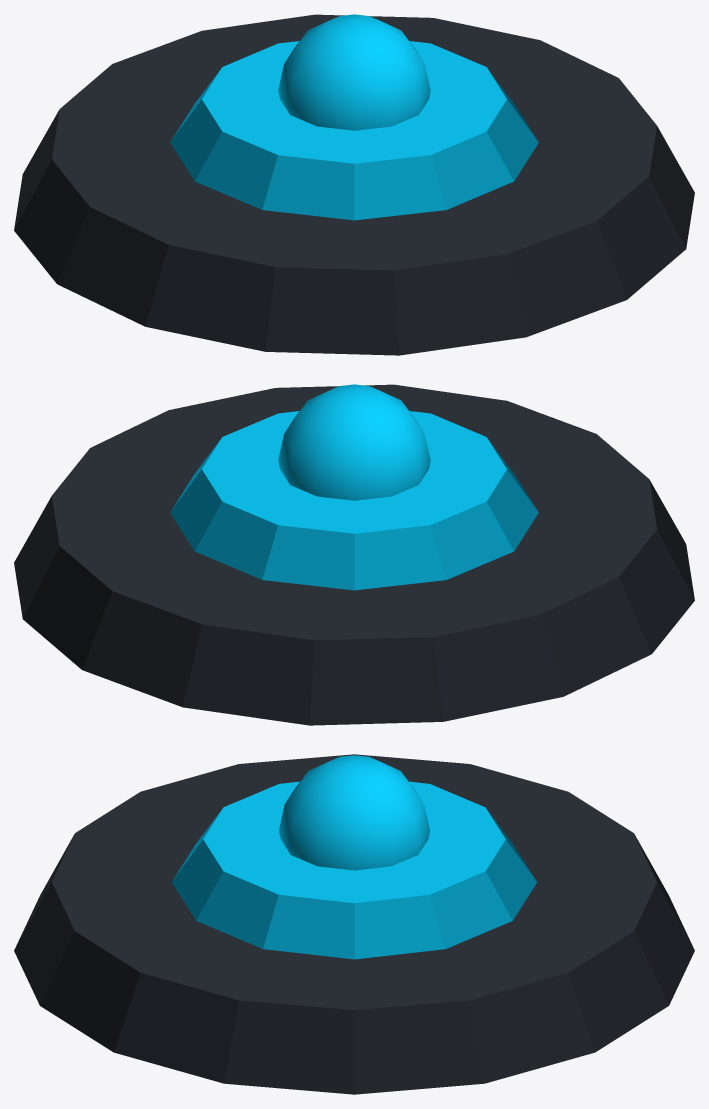
Rendered from hologram_projector.obj.
3 renders of one model, top to bottom at view 1: azimuth 30°, elevation 25°; view 2: azimuth 150°, elevation 25°; view 3: azimuth 270°, elevation 25°, orthographic.
Parts seen in each view (by area): view 1: HologramProjector; view 2: HologramProjector; view 3: HologramProjector.
Part boxes in pixels (x1,y1,x2,y2): HologramProjector: [14, 14, 694, 355]; HologramProjector: [14, 384, 694, 725]; HologramProjector: [14, 754, 694, 1094].
Bounding box in the file's own units: 1.8 × 0.55 × 1.8.
